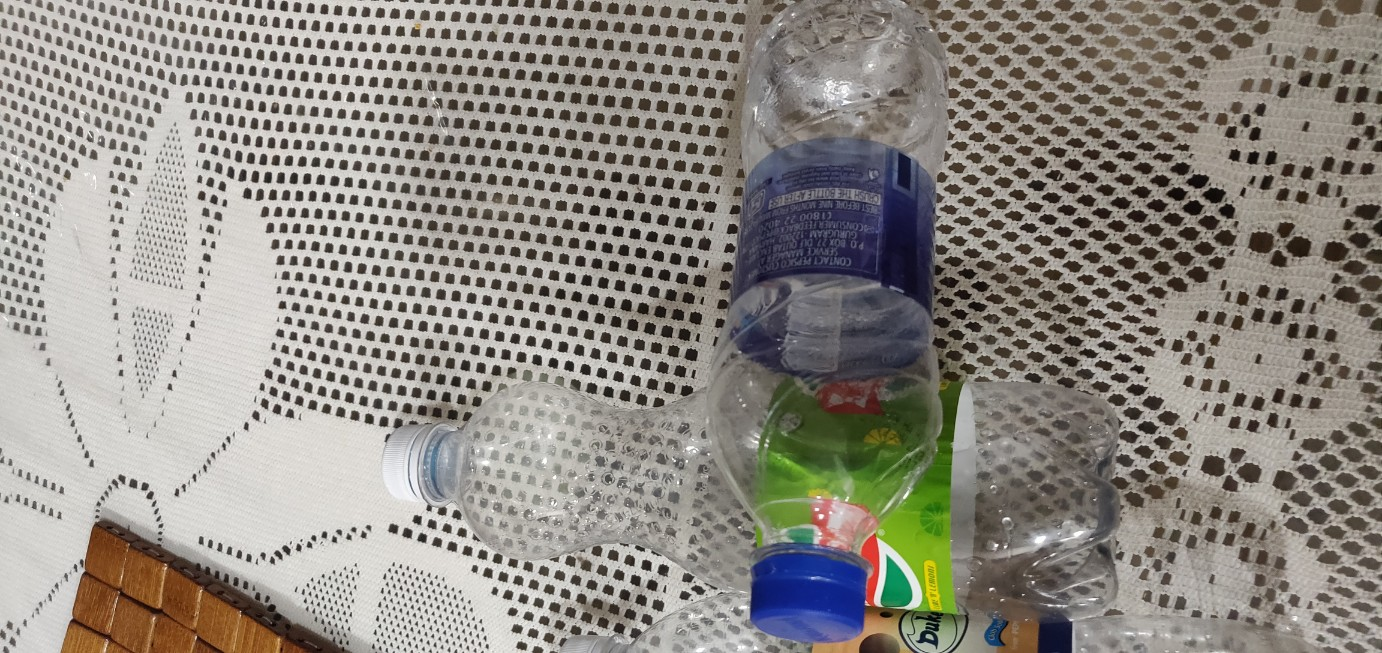Electronics: (367, 356, 1148, 629), (688, 1, 974, 653)
